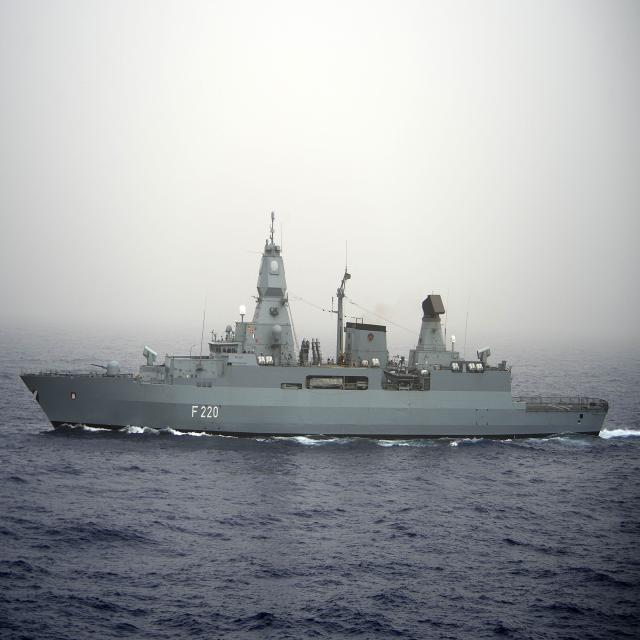Fragata: (13, 18, 620, 255)
